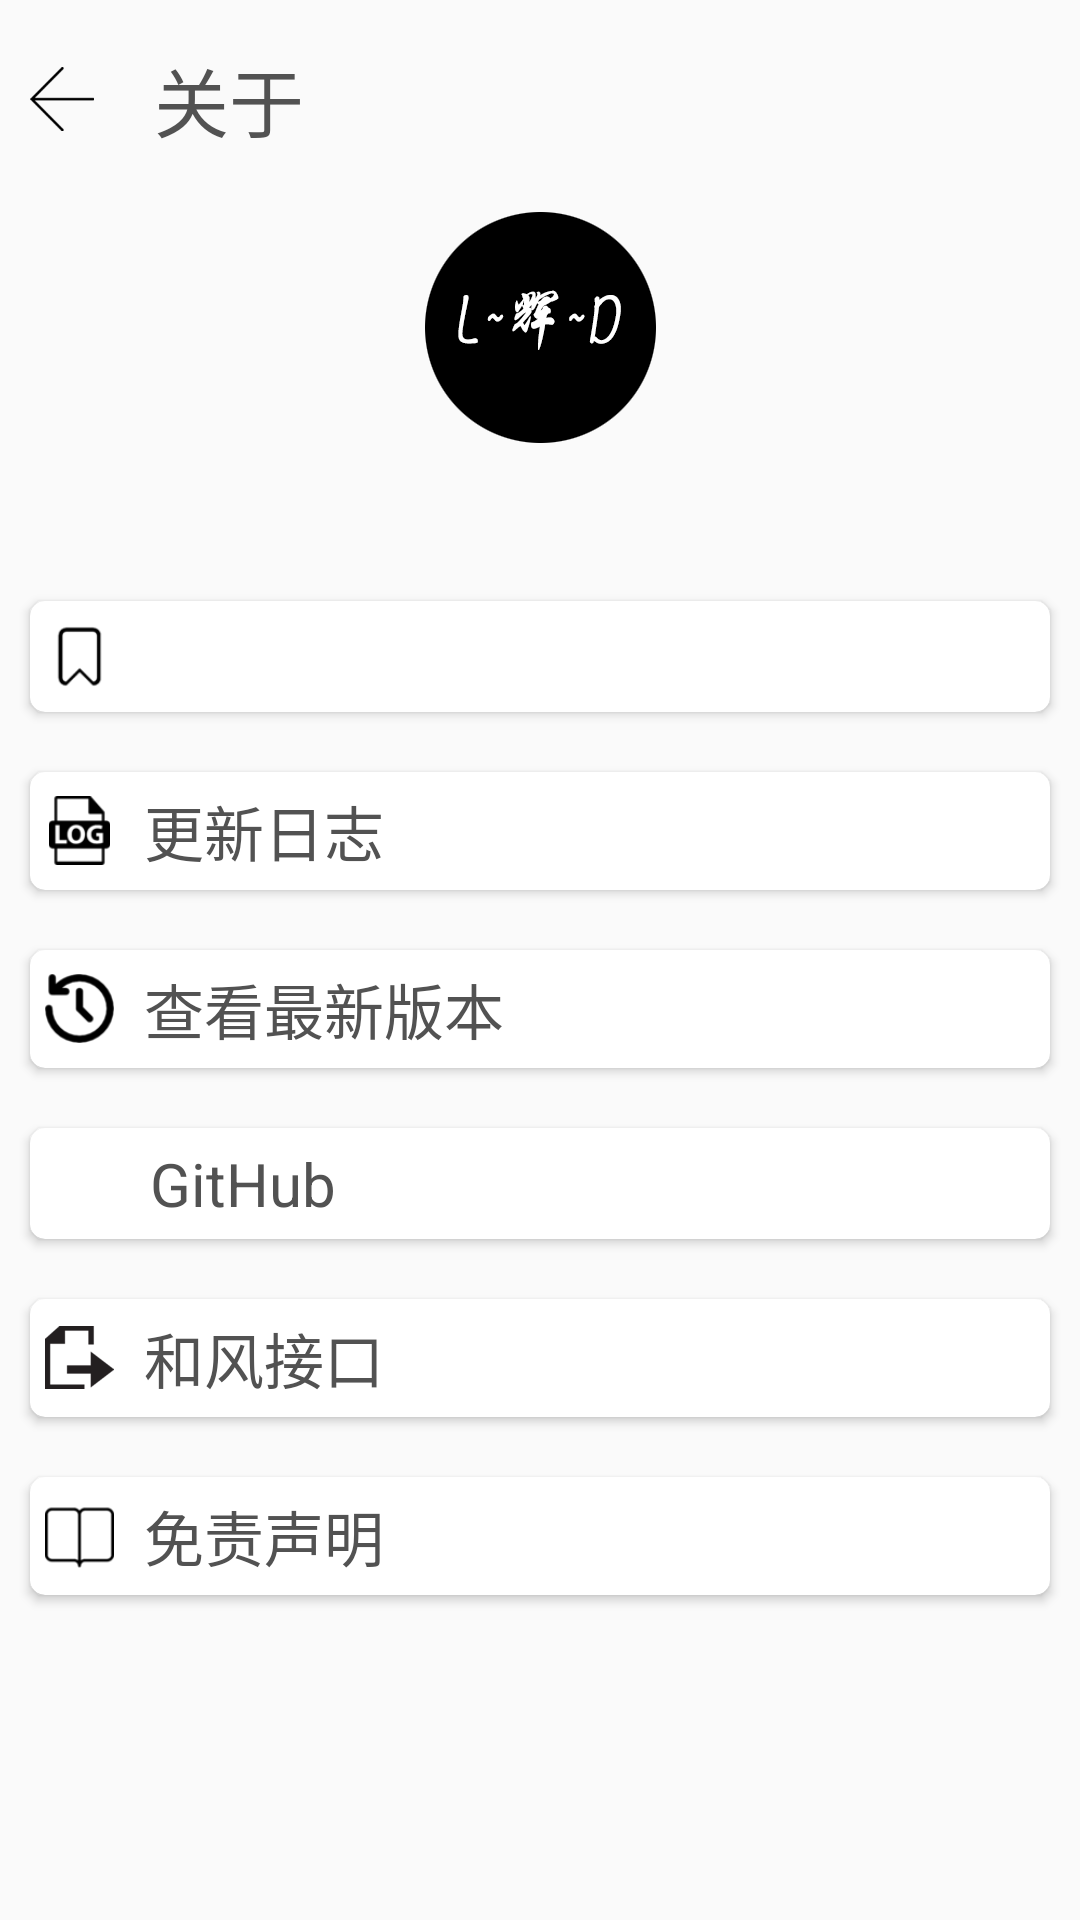

Named icons in this screenshot (1080*1920) and their centers, (x,y):
back: (62,99)
book: (79,1537)
label: (79,656)
update: (79,1008)
